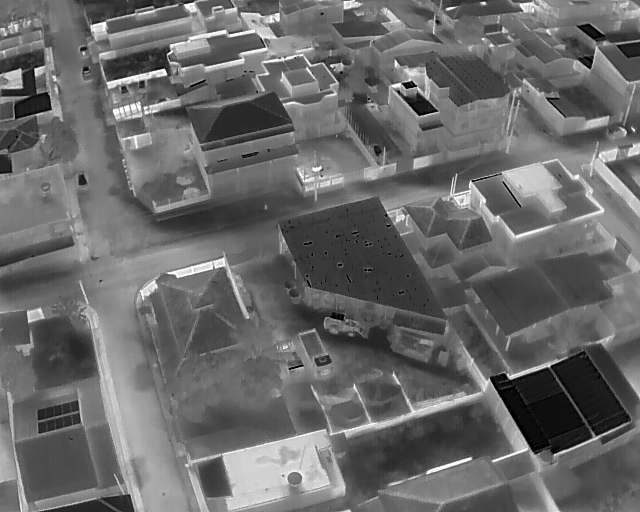car: (369, 138, 389, 162), (428, 11, 447, 35), (73, 170, 90, 193), (603, 124, 628, 139), (74, 40, 92, 60), (78, 62, 95, 82), (116, 82, 132, 100), (134, 75, 150, 92)
person: (628, 121, 639, 135)
truck: (322, 311, 374, 338), (304, 328, 329, 377), (276, 331, 300, 380)
